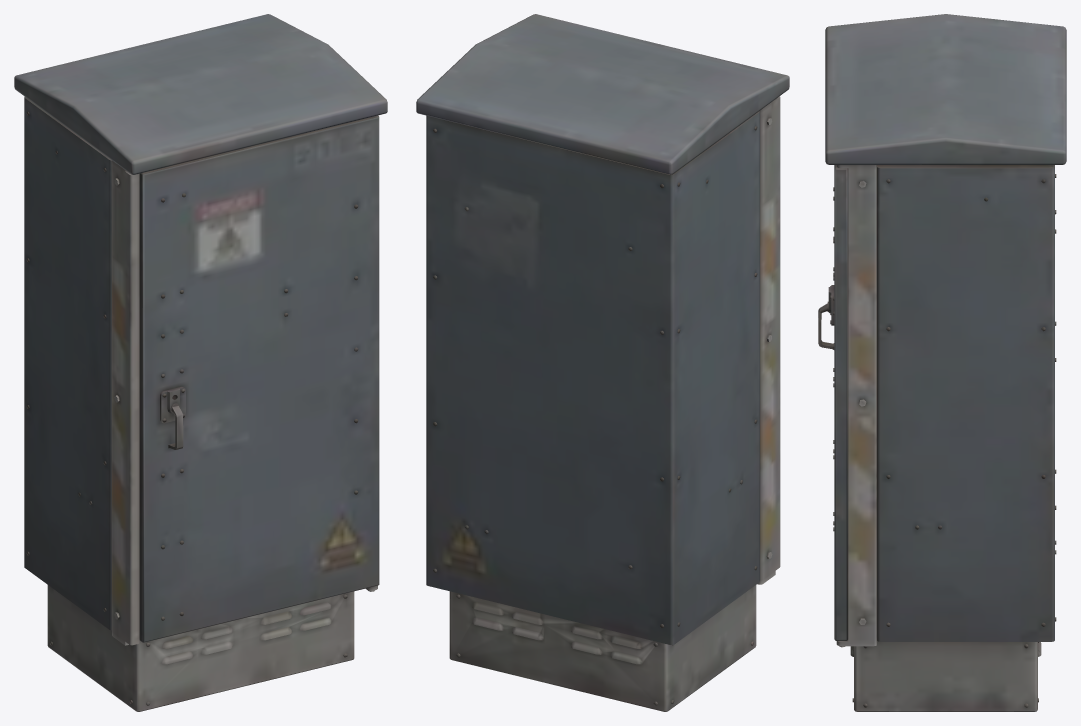
The model's file is utilitybox.glb.
3 views of the same model, side by side, from view 1: azimuth 30°, elevation 25°; view 2: azimuth 150°, elevation 25°; view 3: azimuth 270°, elevation 25° (orthographic).
Parts seen in each view (by area): view 1: utility_box_01_box; view 2: utility_box_01_box; view 3: utility_box_01_box.
Part boxes in pixels (bbox=[...]): utility_box_01_box: bbox=[14, 14, 387, 711]; utility_box_01_box: bbox=[416, 14, 789, 711]; utility_box_01_box: bbox=[818, 14, 1066, 711].
Bounding box in the file's own units: 0.52 × 1.12 × 0.4319.
1 material, 1 textured.
